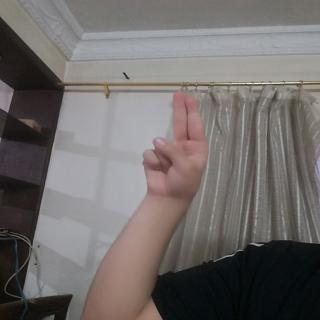TA: (134, 87, 228, 198)
